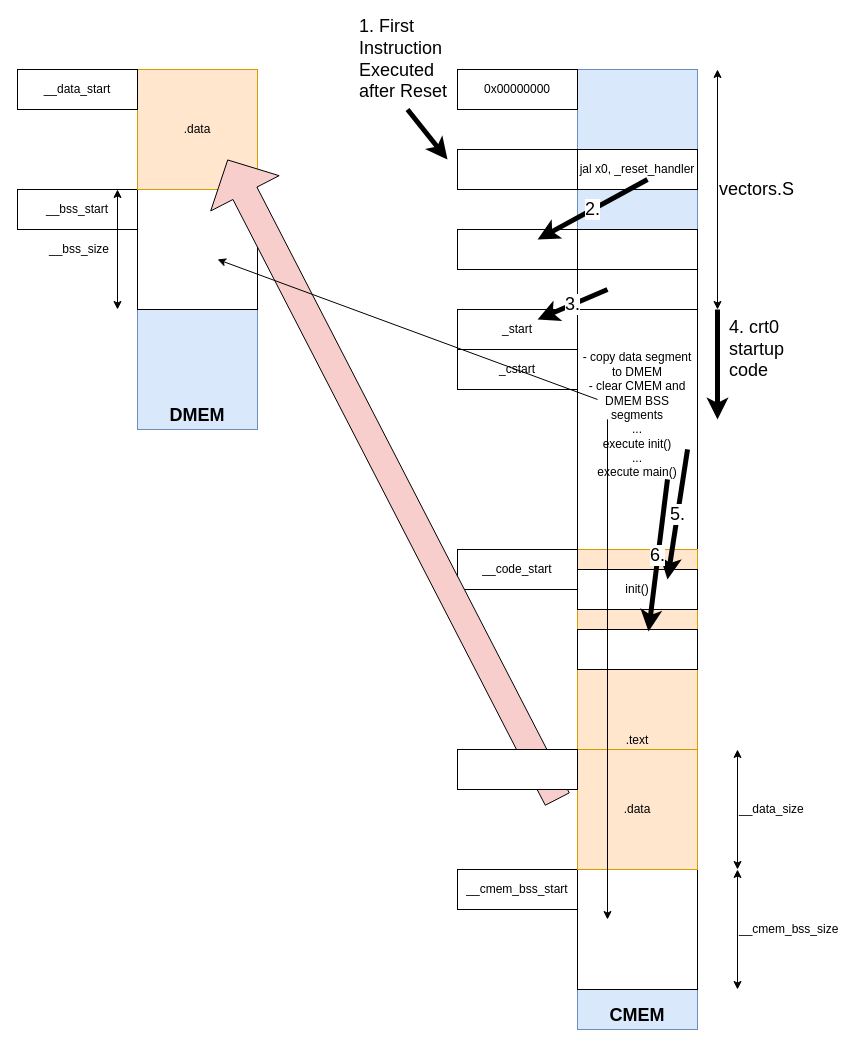
Some shapes in this 856 by 1048 pixel diagram are drawn without their labels. Each missing label, with the centre of its shape:
".cmem_bss" belongs at (637,929).
".tbss .bss" belongs at (197,249).
"0x00000080" belongs at (517,169).
"__data_source" belongs at (517,769).
"_reset_handler" belongs at (517,249).
"main()" belongs at (637,649).
"set all regs to 0" belongs at (637,249).
"tail _start" belongs at (637,289).
